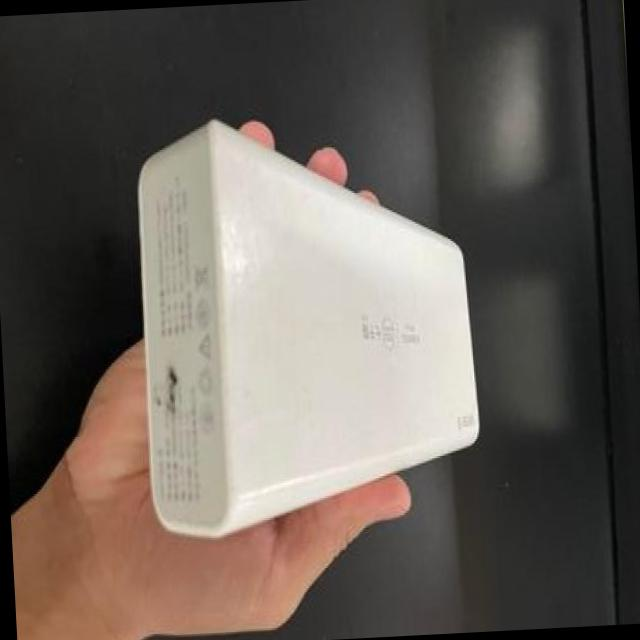power_bank: (124, 100, 491, 552)
